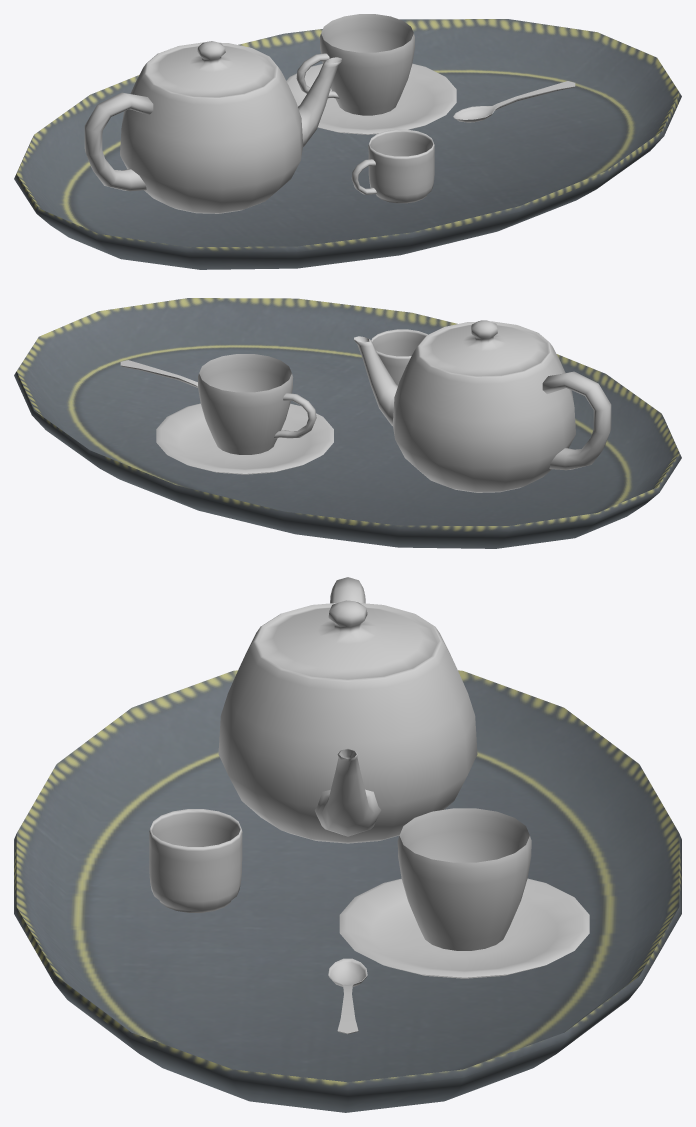
Rendered from tea_service.FBX.
3 views of the same model, one above another, from view 1: azimuth 30°, elevation 25°; view 2: azimuth 150°, elevation 25°; view 3: azimuth 270°, elevation 25° (orthographic). The views are drawn at different scales.
Visible parts, largest first — view 1: tray, Teapot, tea_cup, saucer, coffe_cup, spoon; view 2: tray, Teapot, tea_cup, saucer, coffe_cup, spoon; view 3: tray, Teapot, tea_cup, saucer, coffe_cup, spoon.
Part boxes in pixels (x1,y1,x2,y2): tray: (14, 19, 681, 269); Teapot: (84, 41, 341, 213); tea_cup: (296, 14, 414, 115); saucer: (286, 63, 456, 134); coffe_cup: (351, 129, 434, 203); spoon: (453, 81, 575, 122); tray: (14, 298, 681, 548); Teapot: (354, 320, 611, 492); tea_cup: (198, 354, 316, 454); saucer: (156, 403, 333, 474); coffe_cup: (371, 329, 427, 385); spoon: (120, 360, 197, 387); tray: (14, 670, 681, 1112); Teapot: (218, 577, 477, 843); tea_cup: (397, 808, 531, 950); saucer: (339, 878, 589, 978); coffe_cup: (149, 809, 242, 912); spoon: (328, 958, 367, 1034).
Bounding box in the file's own units: 83.11 × 20.39 × 54.88.
